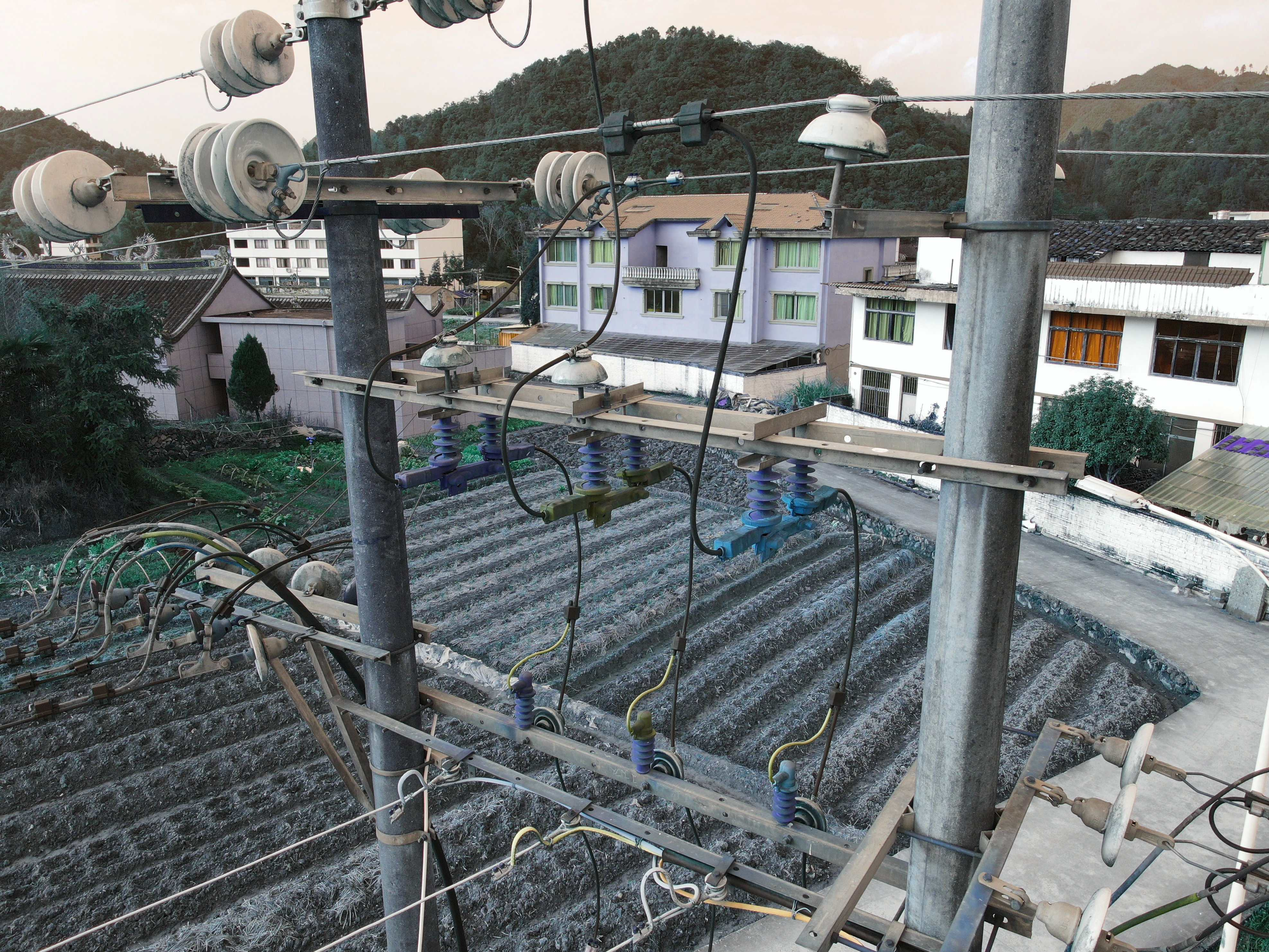severe_soiling_no_discharge_whole: (173, 117, 308, 224), (12, 147, 128, 244), (196, 7, 299, 98), (792, 92, 894, 168), (532, 148, 613, 223), (1078, 780, 1137, 869), (1035, 885, 1115, 950), (1095, 720, 1157, 791), (547, 343, 609, 388), (243, 620, 287, 682), (417, 331, 473, 373), (291, 560, 344, 599), (793, 795, 829, 831), (650, 748, 686, 777), (531, 706, 565, 734), (703, 871, 729, 902), (439, 760, 462, 780), (558, 812, 581, 829)
